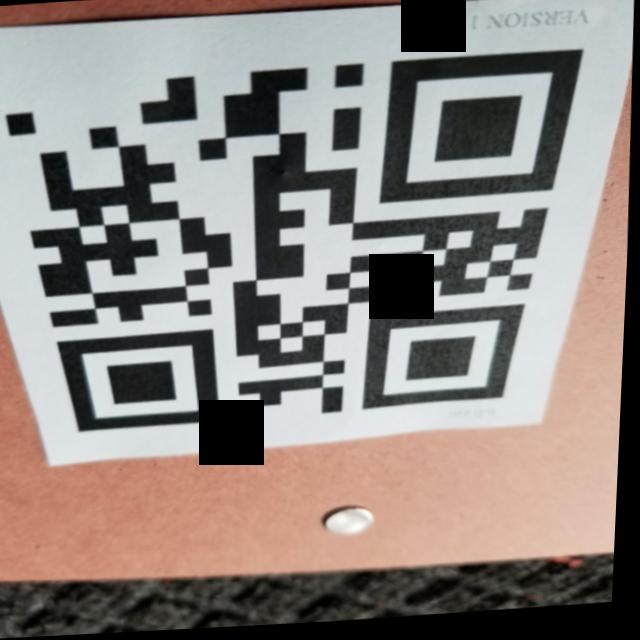QR_CODE: (0, 14, 609, 477)
